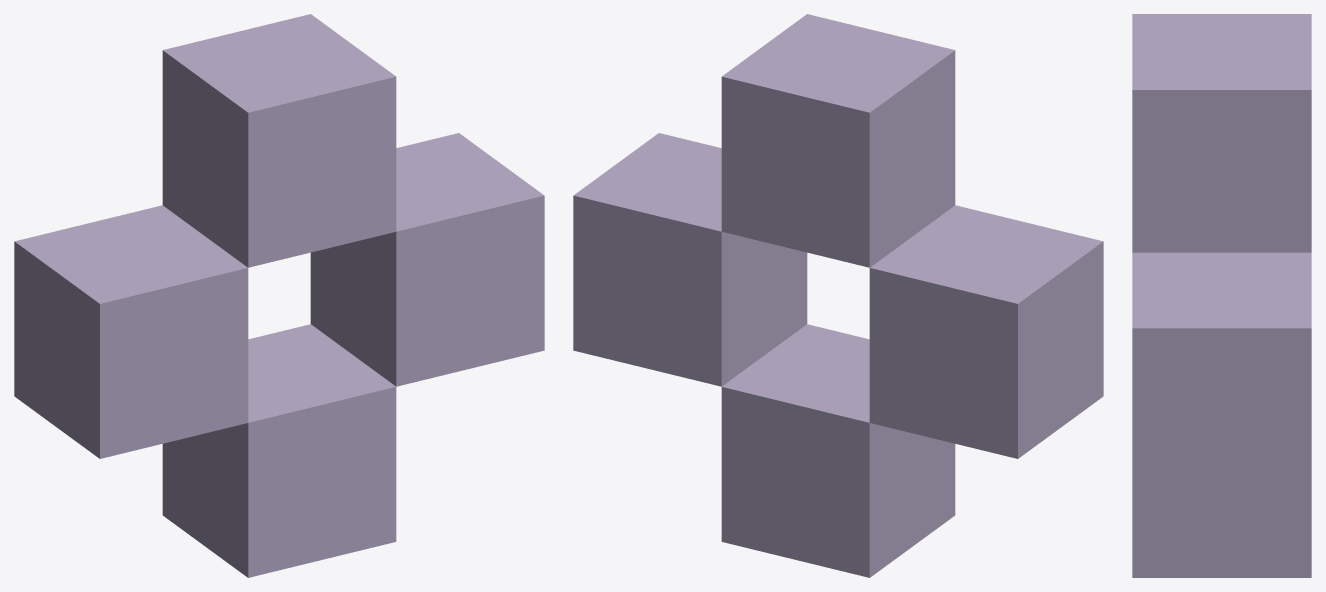
Rendered from Ring-Small-Grey.vox.obj.
3 views of the same model, side by side, from view 1: azimuth 30°, elevation 25°; view 2: azimuth 150°, elevation 25°; view 3: azimuth 270°, elevation 25° (orthographic). The views are drawn at different scales.
Size of the model in its own units: 0.3 by 0.3 by 0.1.
1 material, 1 textured.
